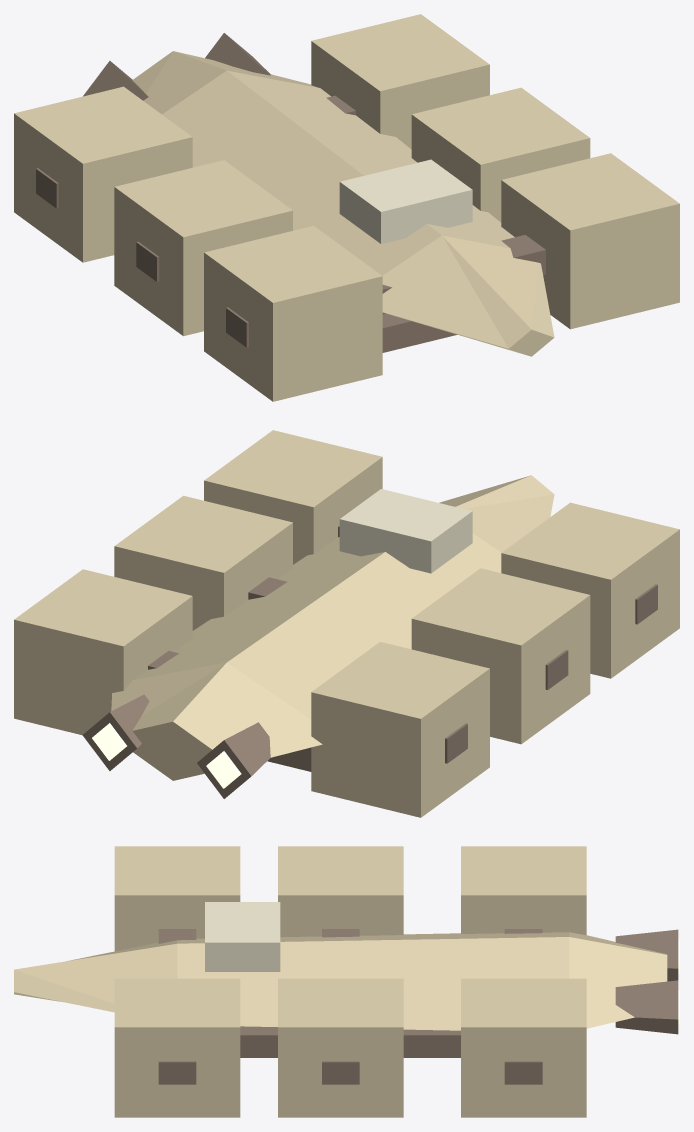
3 renders of one model, top to bottom at view 1: azimuth 30°, elevation 25°; view 2: azimuth 150°, elevation 25°; view 3: azimuth 270°, elevation 25°, orthographic. The views are drawn at different scales.
Size of the model in its own units: 6.41 by 1.71 by 9.86.
